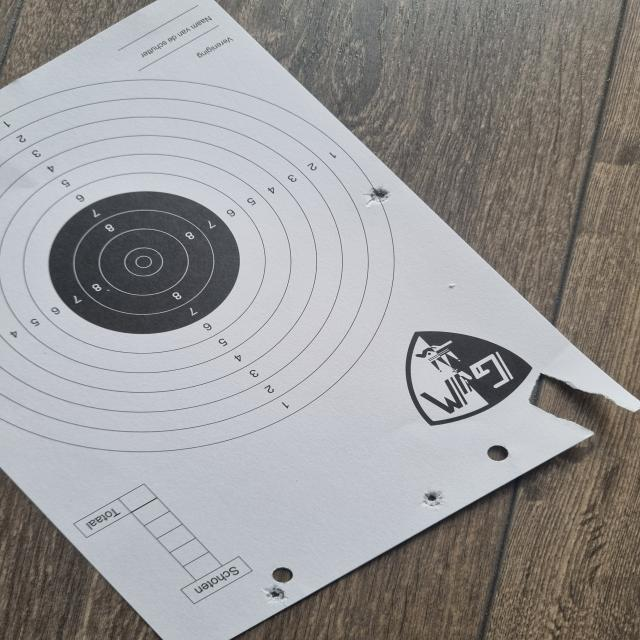0: (416, 487, 449, 510), (259, 582, 288, 605)
1: (364, 185, 392, 205)
Target: (0, 80, 397, 453)
black_contour: (50, 190, 240, 334)
